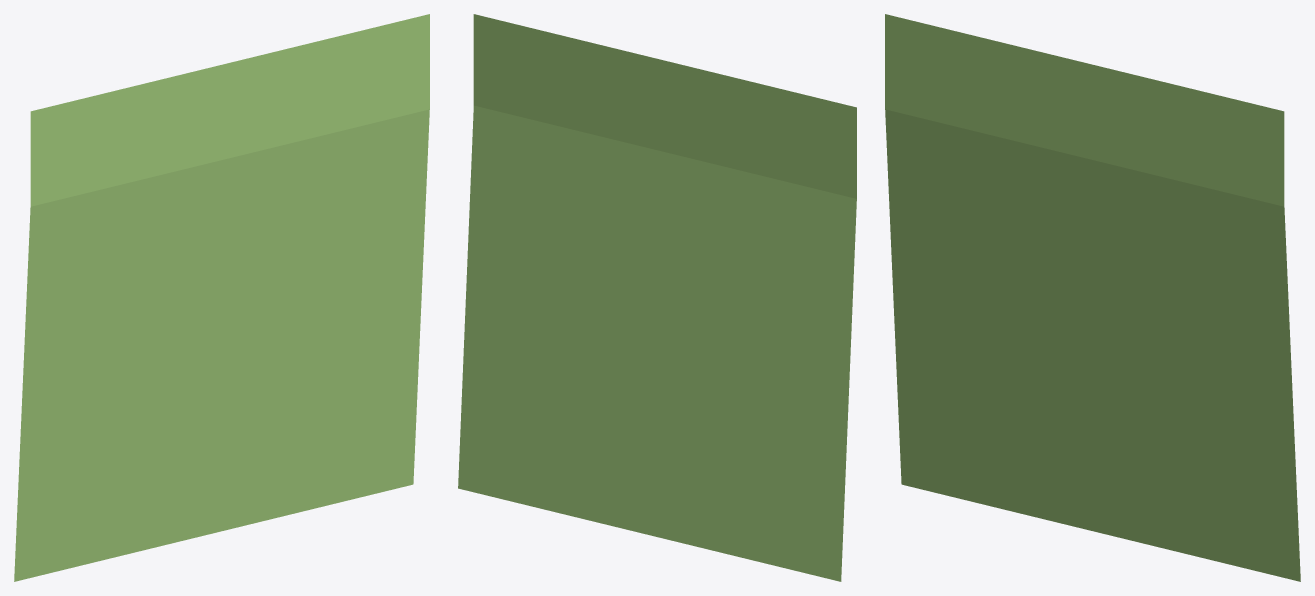
Rendered from Post-it.fbx.
3 views of the same model, side by side, from view 1: azimuth 30°, elevation 25°; view 2: azimuth 150°, elevation 25°; view 3: azimuth 330°, elevation 25° (orthographic). The views are drawn at different scales.
Parts seen in each view (by area): view 1: Plane.018; view 2: Plane.018; view 3: Plane.018.
Part boxes in pixels (x1=…): Plane.018: x1=14, y1=14, x2=429, y2=581; Plane.018: x1=458, y1=14, x2=856, y2=581; Plane.018: x1=885, y1=14, x2=1300, y2=581.
Size of the model in its own units: 207 by 239 by 14.75.
